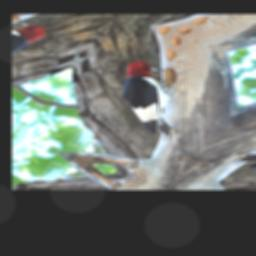Woodpecker: (88, 58, 219, 143)
